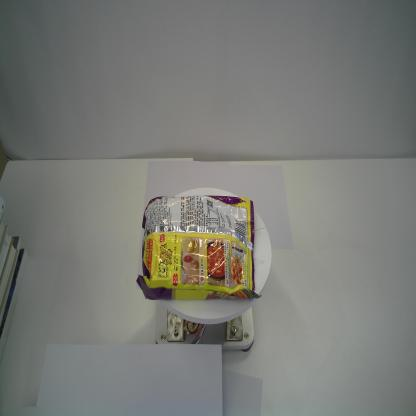Instant Noodles: (136, 194, 264, 302)
